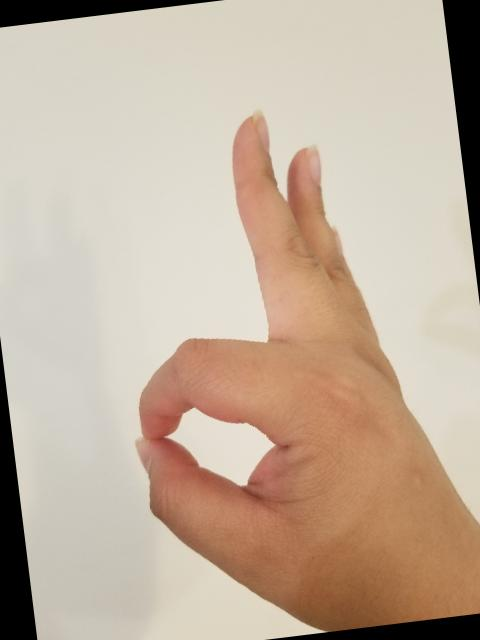F: (84, 78, 480, 640)
